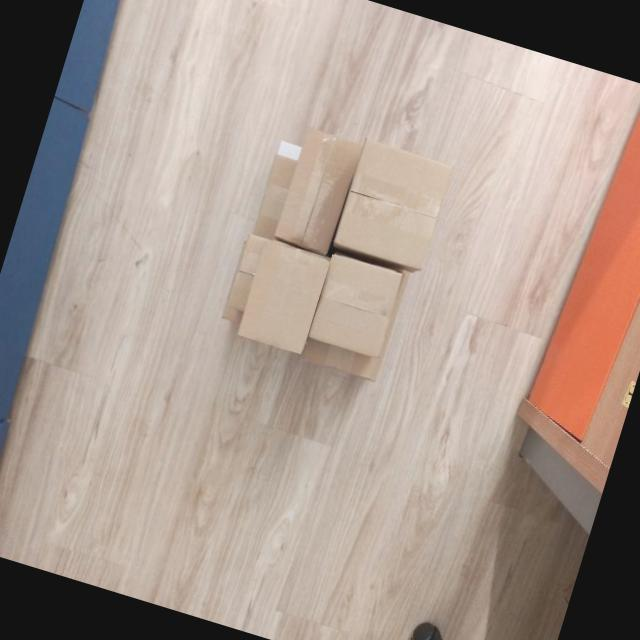box: (329, 133, 460, 276), (268, 120, 366, 258), (230, 234, 334, 360), (304, 248, 408, 362)
